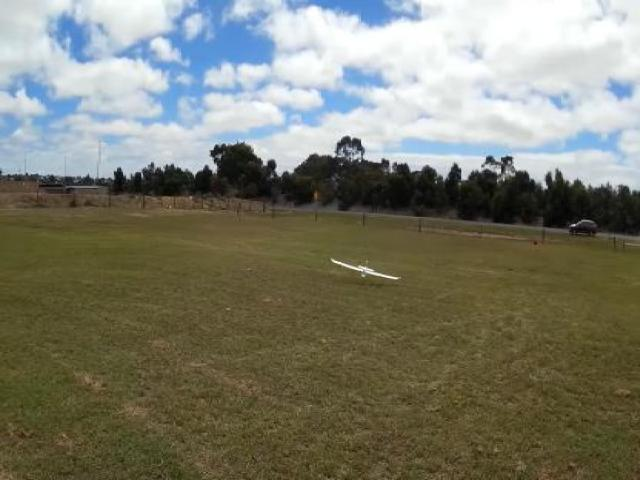uav: (324, 244, 407, 296)
